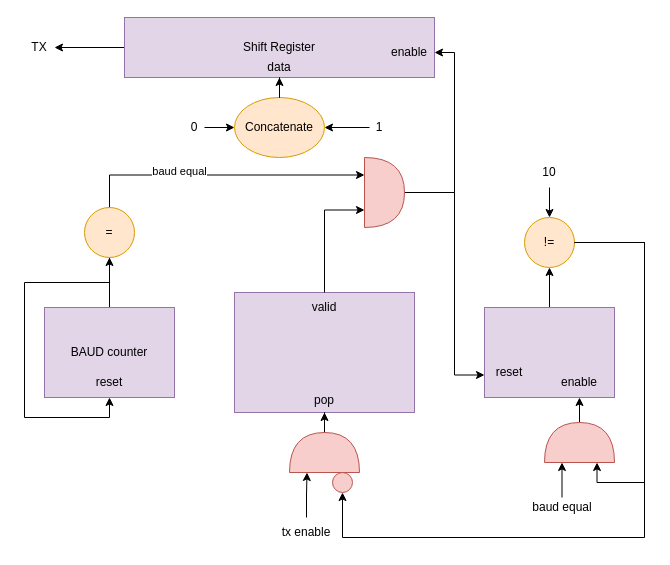
Some shapes in this 670 by 565 pixel diagram are drawn without their labels. Each missing label, with the box of its shape:
FİFO: (234, 292, 414, 412)
packet counter: (484, 306, 614, 398)
